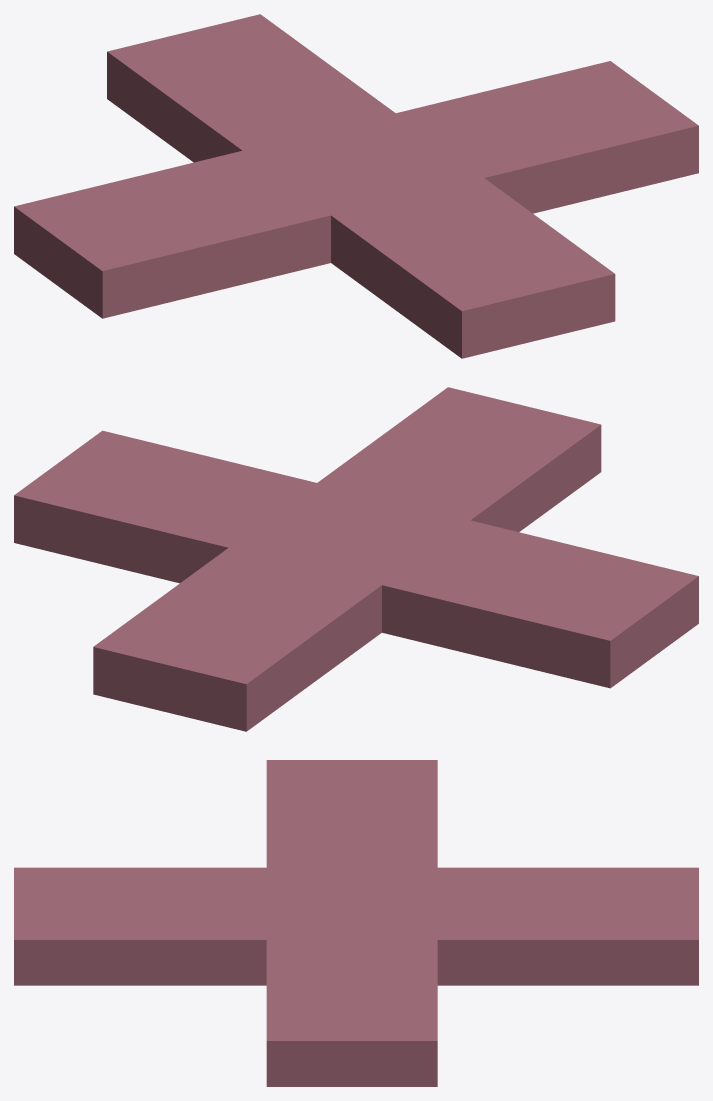
The picture shows the model from 3 angles, top to bottom: view 1: azimuth 30°, elevation 25°; view 2: azimuth 150°, elevation 25°; view 3: azimuth 270°, elevation 25°; orthographic projection. The views are drawn at different scales.
Visible parts, largest first — view 1: plus; view 2: plus; view 3: plus.
Part boxes in pixels (x1,y1,x2,y2): plus: (14,14,698,358); plus: (14,387,698,731); plus: (14,760,698,1086).
Bounding box in the file's own units: 21.01 × 1.6 × 21.65.
